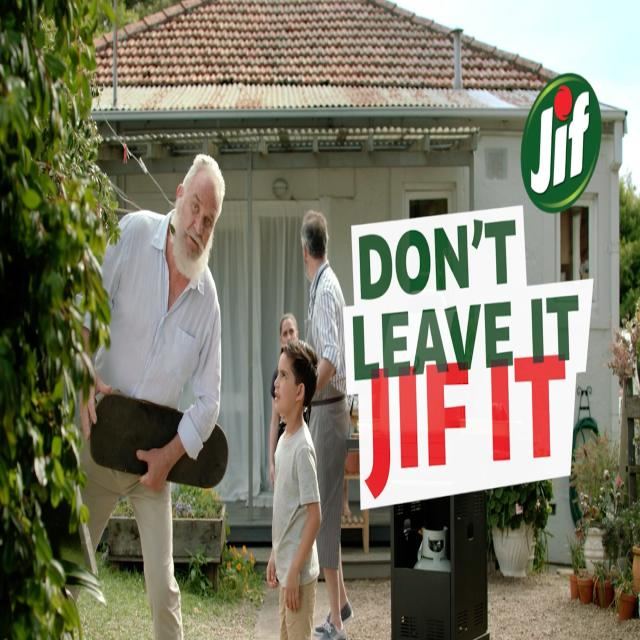body: (70, 148, 226, 640), (300, 208, 356, 638), (262, 333, 324, 639), (268, 311, 312, 489)
